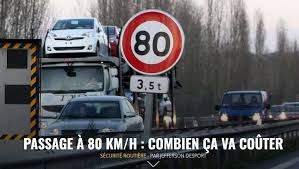Speed_limit_80km: (119, 9, 184, 75)
